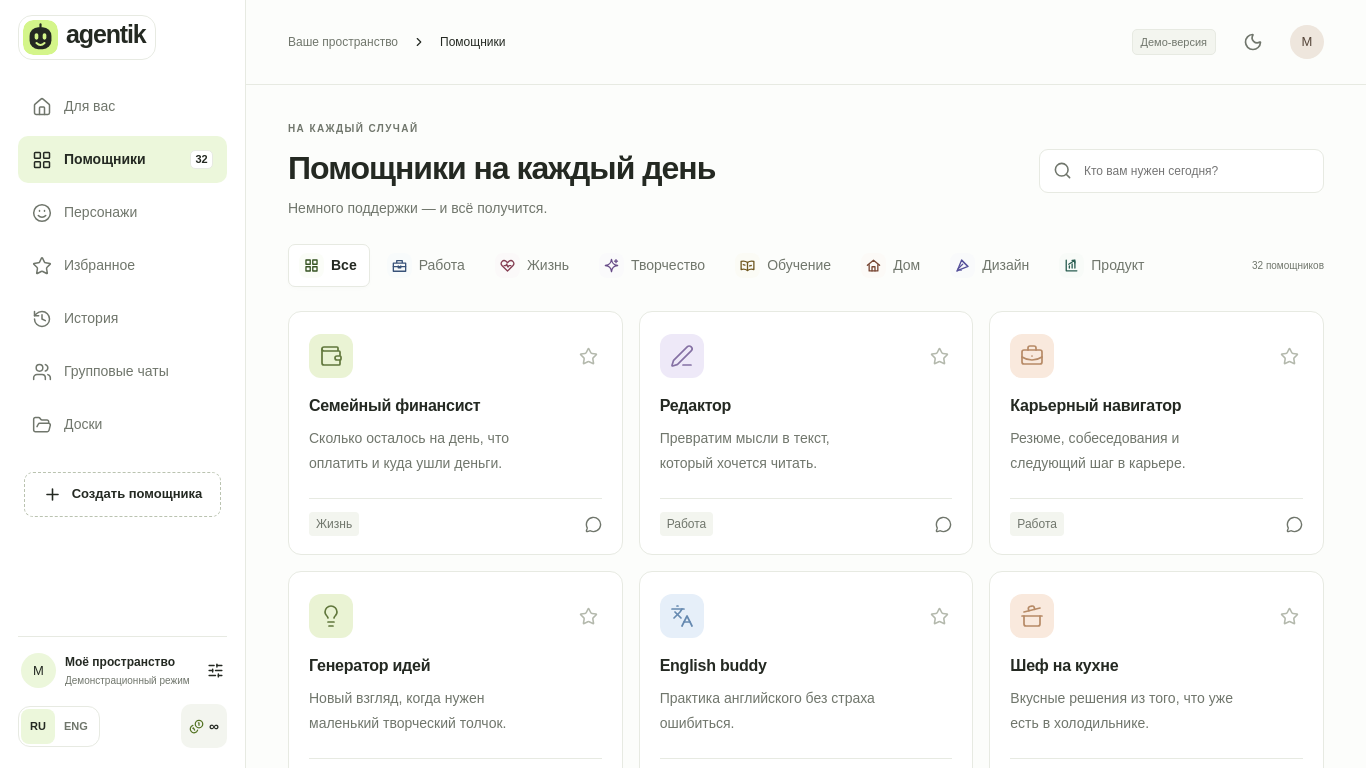
retries a failed request without duplicating user messages
The image size is (1366, 768).
Click the link with aria-label "Открыть: Редактор" at (806, 466), box [640, 378, 972, 554]
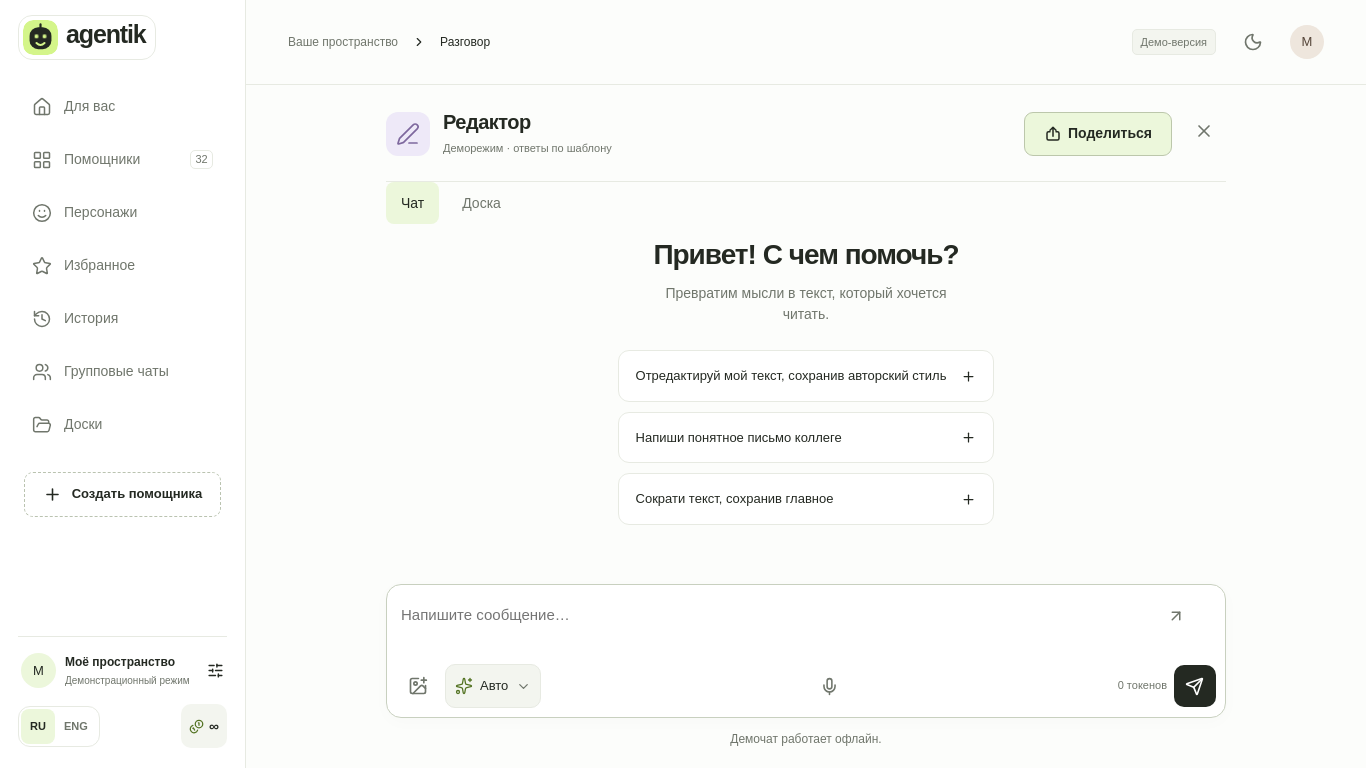
Type "Тест запроса" into the text box named "Ваше сообщение" at (806, 626), box [396, 594, 1216, 659]
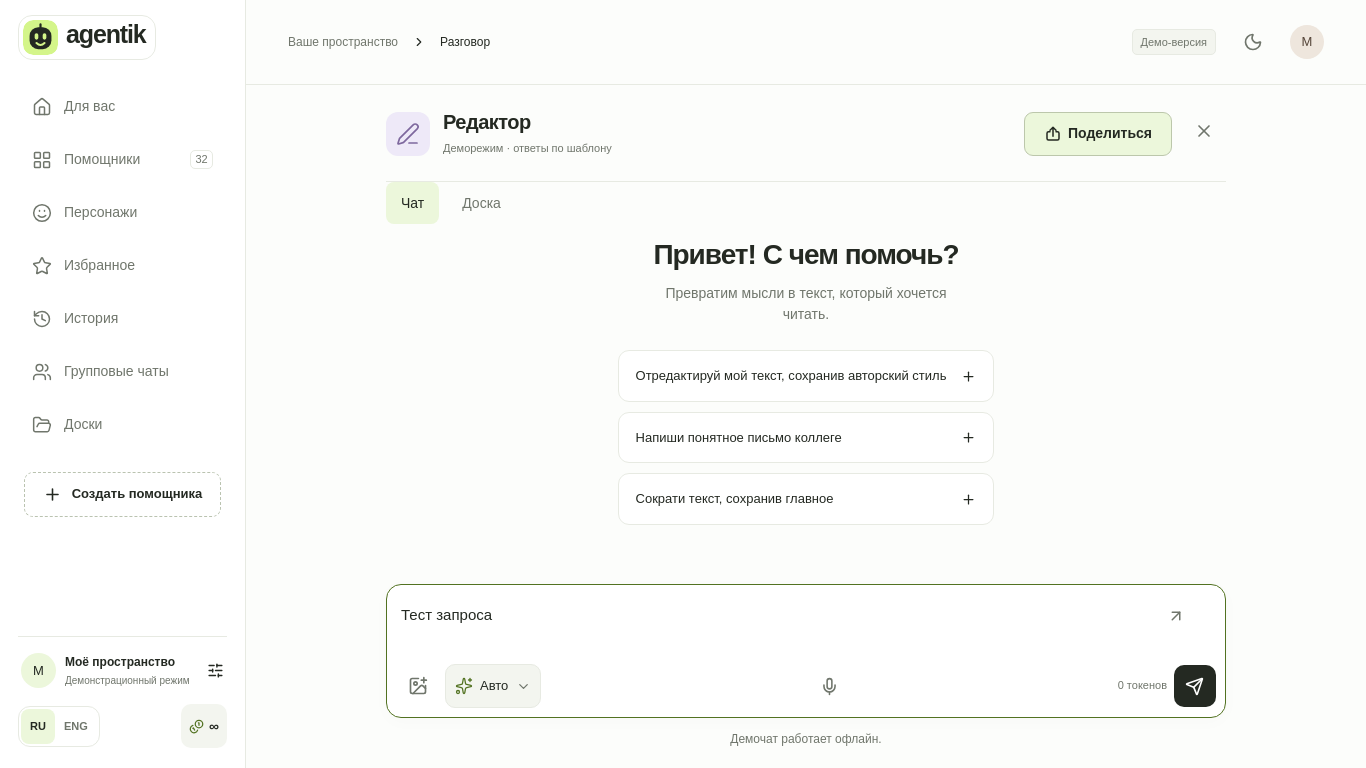
Click the button named "Отправить сообщение" at (1195, 686), box [1174, 665, 1216, 707]
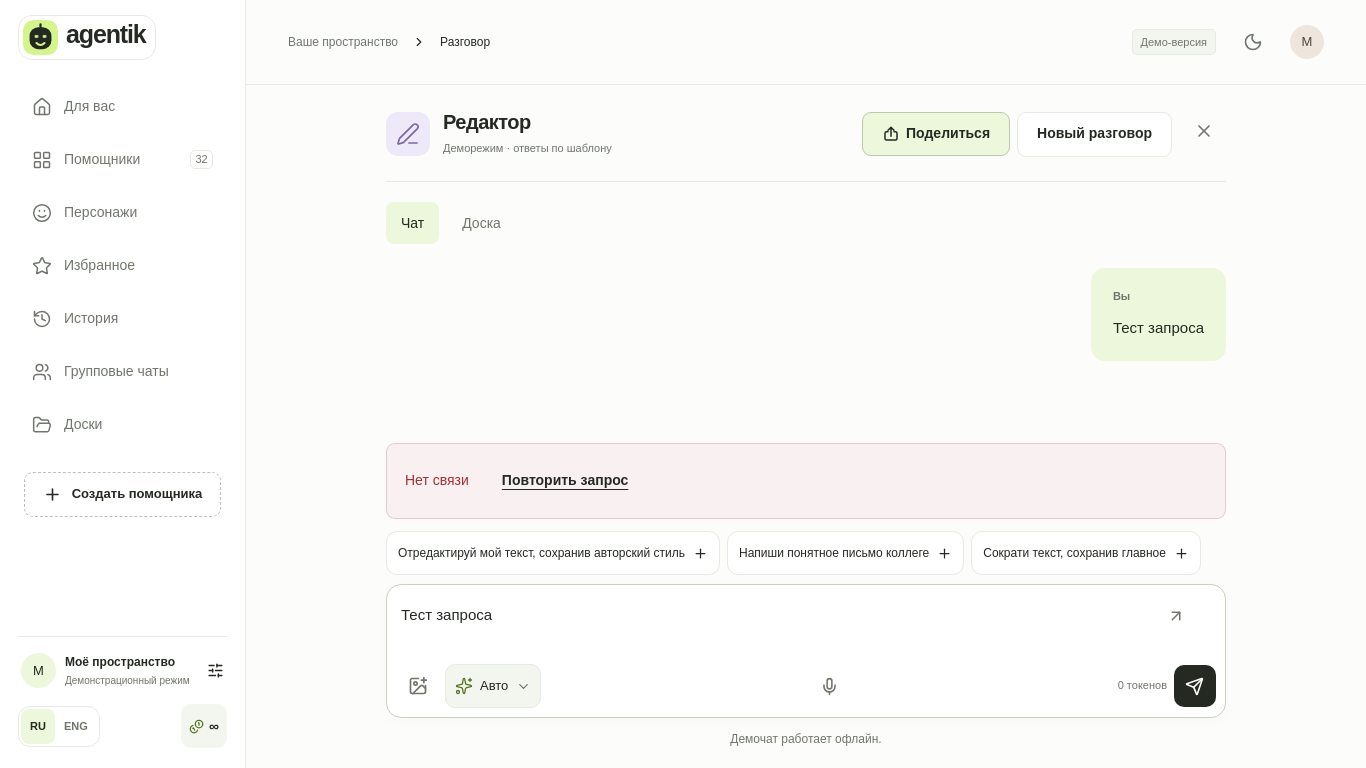
expect the message shows "Нет связи": met, box [405, 472, 469, 488]
Click the button "Повторить запрос" at (565, 481), box [483, 459, 647, 503]
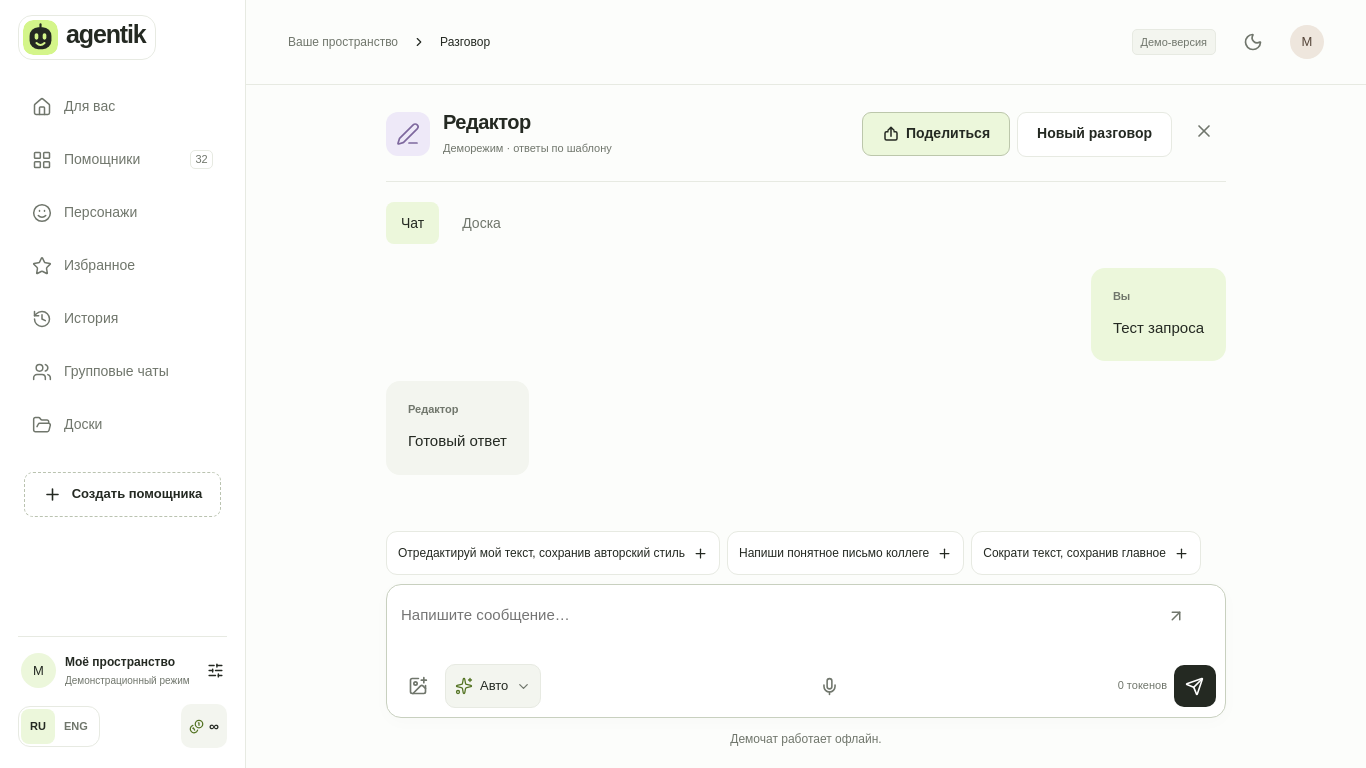
expect the text "Готовый ответ" is shown: met, box [408, 427, 507, 455]
